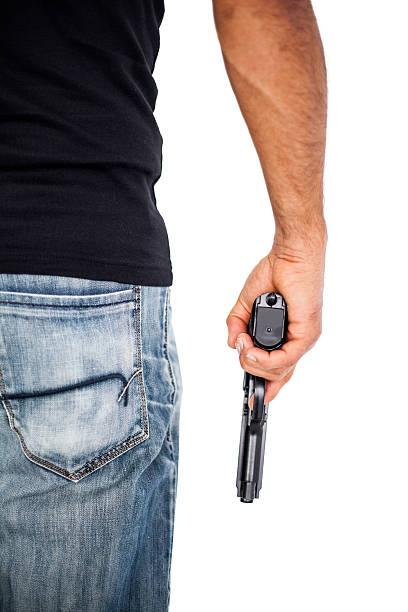weapon: (231, 291, 293, 511)
